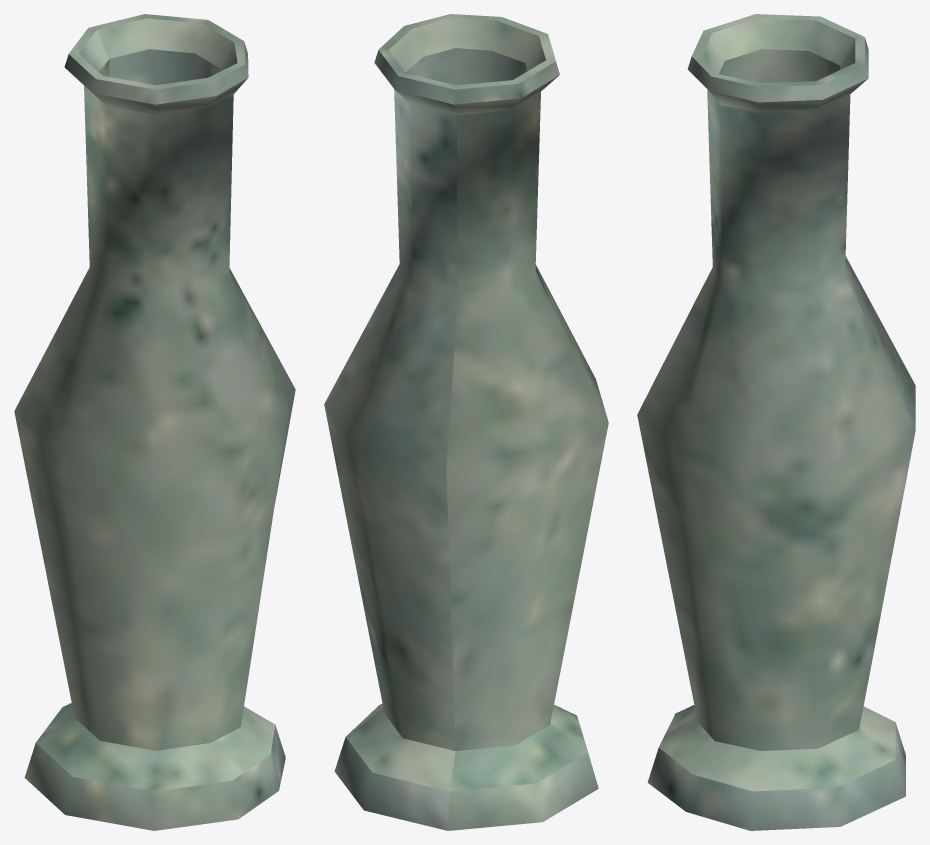
The model's file is MS_Vase.fbx.
3 renders of one model, left to right at view 1: azimuth 30°, elevation 25°; view 2: azimuth 150°, elevation 25°; view 3: azimuth 270°, elevation 25°, orthographic.
Parts seen in each view (by area): view 1: MSH_Vase; view 2: MSH_Vase; view 3: MSH_Vase.
Part boxes in pixels (x1,y1,x2,y2): MSH_Vase: (14,14,295,830); MSH_Vase: (324,14,608,830); MSH_Vase: (637,14,915,830).
Bounding box in the file's own units: 10.39 × 29.7 × 10.34.
